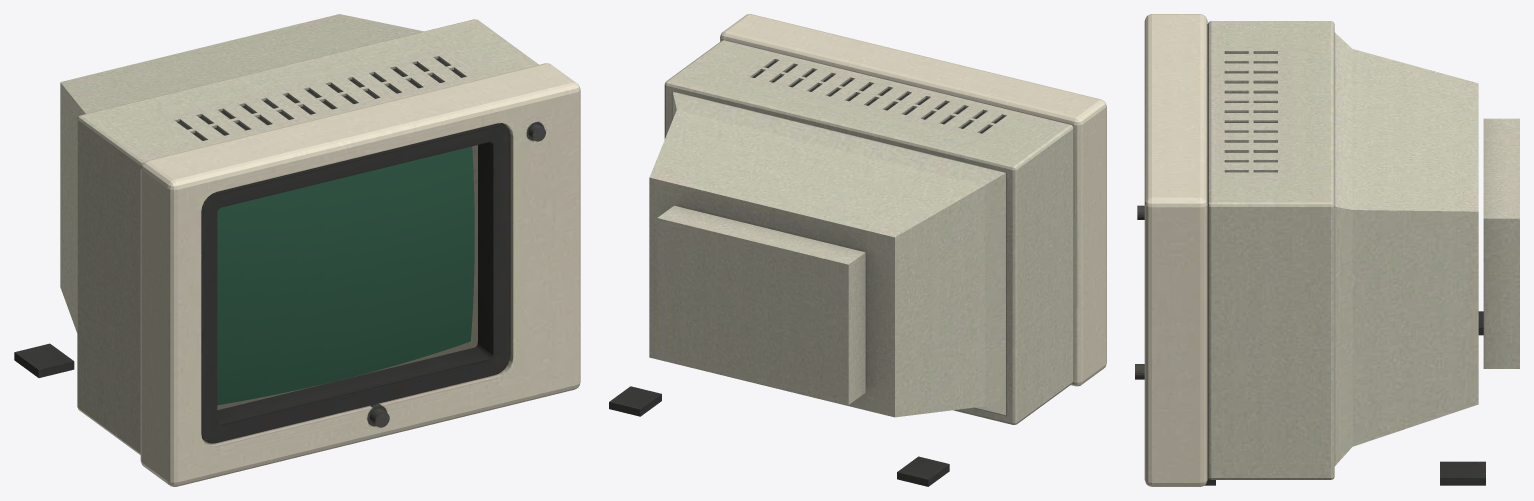
The model's file is homecrt-d.glb.
The picture shows the model from 3 angles, left to right: view 1: azimuth 30°, elevation 25°; view 2: azimuth 150°, elevation 25°; view 3: azimuth 270°, elevation 25°; orthographic projection. The views are drawn at different scales.
Visible parts, largest first — view 1: case-baked, screen-glass; view 2: case-baked; view 3: case-baked.
Part boxes in pixels (box(x1,y1,x2,y2)): case-baked: box(14, 14, 580, 486); screen-glass: box(217, 146, 474, 405); case-baked: box(609, 14, 1106, 486); case-baked: box(1135, 14, 1519, 486).
Size of the model in its own units: 0.37 by 0.27 by 0.318.
Materials: 2 (1 with a texture image).
